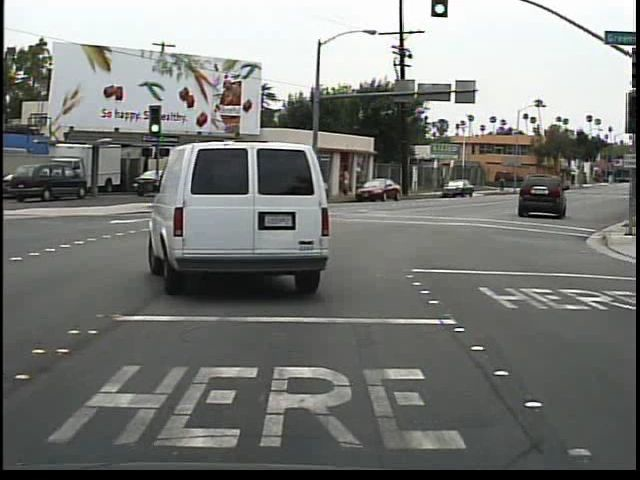person: (339, 161, 353, 197), (496, 173, 507, 194)
